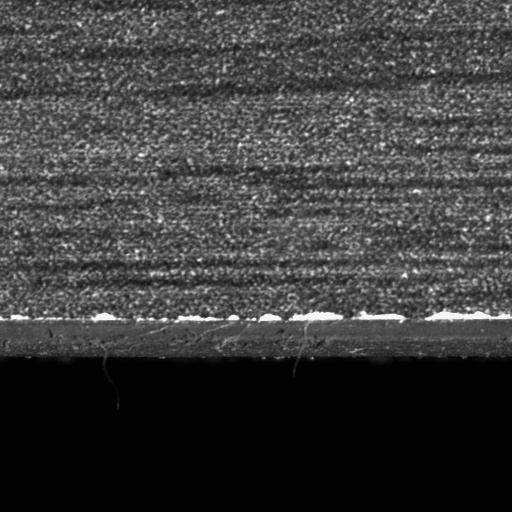huashang: (428, 311, 511, 321), (288, 309, 341, 324), (351, 310, 408, 322), (89, 309, 123, 321), (255, 310, 282, 321)
